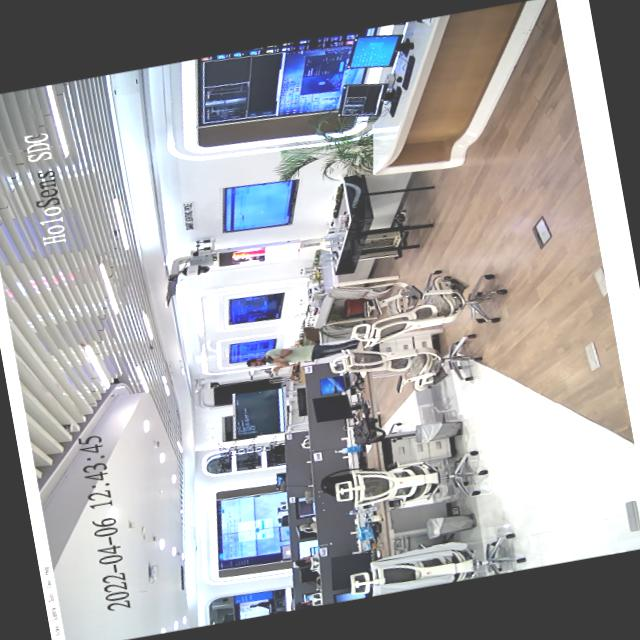long weapon: (261, 348, 282, 367)
